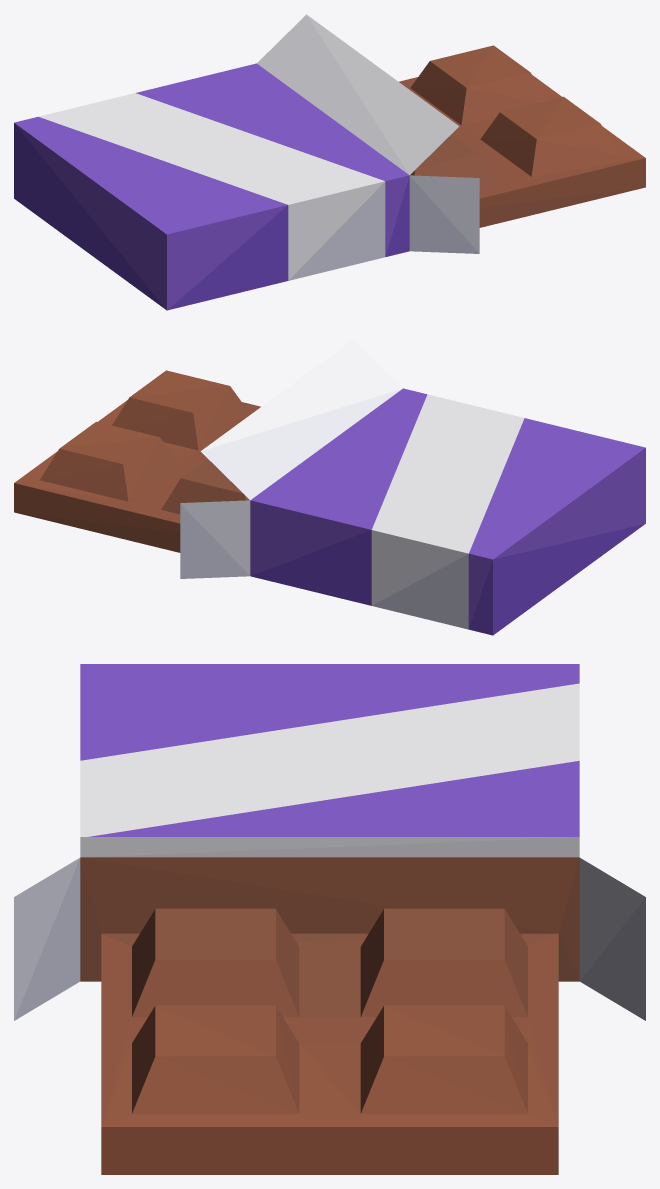
Rendered from s-chocolate.glb.
The picture shows the model from 3 angles, top to bottom: view 1: azimuth 30°, elevation 25°; view 2: azimuth 150°, elevation 25°; view 3: azimuth 270°, elevation 25°; orthographic projection. The views are drawn at different scales.
Parts seen in each view (by area): view 1: s_chocolate; view 2: s_chocolate; view 3: s_chocolate.
Boxes of the visible parts, x1,y1,x2,y2 form: s_chocolate: [14, 14, 645, 310]; s_chocolate: [14, 339, 645, 635]; s_chocolate: [14, 664, 645, 1174].
Bounding box in the file's own units: 0.16 × 0.0355 × 0.1105.
